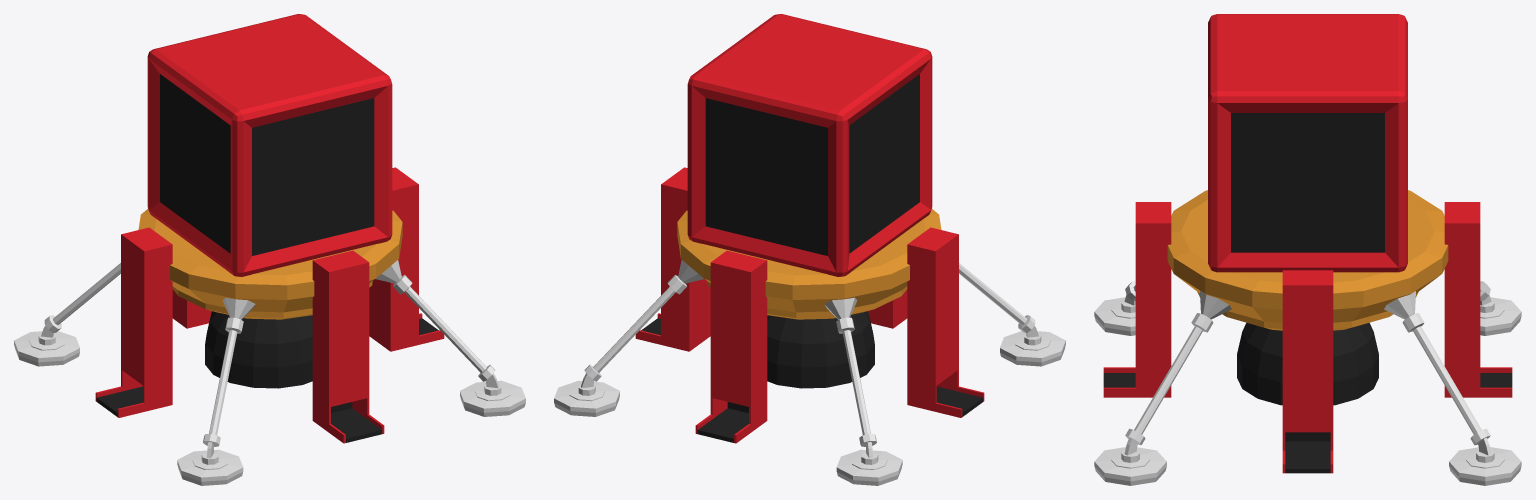
File: S_lander.fbx
3 renders of one model, left to right at view 1: azimuth 30°, elevation 25°; view 2: azimuth 150°, elevation 25°; view 3: azimuth 270°, elevation 25°, orthographic. The views are drawn at different scales.
Parts seen in each view (by area): view 1: Cargo, Conveyor, Lander, Legs; view 2: Cargo, Conveyor, Lander, Legs; view 3: Cargo, Conveyor, Lander, Legs.
Boxes of the visible parts, x1=… form: Cargo: x1=147, y1=14, x2=392, y2=276; Conveyor: x1=95, y1=167, x2=444, y2=443; Lander: x1=138, y1=209, x2=402, y2=388; Legs: x1=14, y1=260, x2=525, y2=485; Cargo: x1=687, y1=14, x2=932, y2=276; Conveyor: x1=635, y1=167, x2=984, y2=443; Lander: x1=677, y1=209, x2=941, y2=388; Legs: x1=554, y1=260, x2=1065, y2=485; Cargo: x1=1208, y1=14, x2=1407, y2=272; Conveyor: x1=1103, y1=202, x2=1512, y2=473; Lander: x1=1167, y1=190, x2=1448, y2=405; Legs: x1=1094, y1=281, x2=1521, y2=485.
Size of the model in its own units: 843 by 843 by 748.
